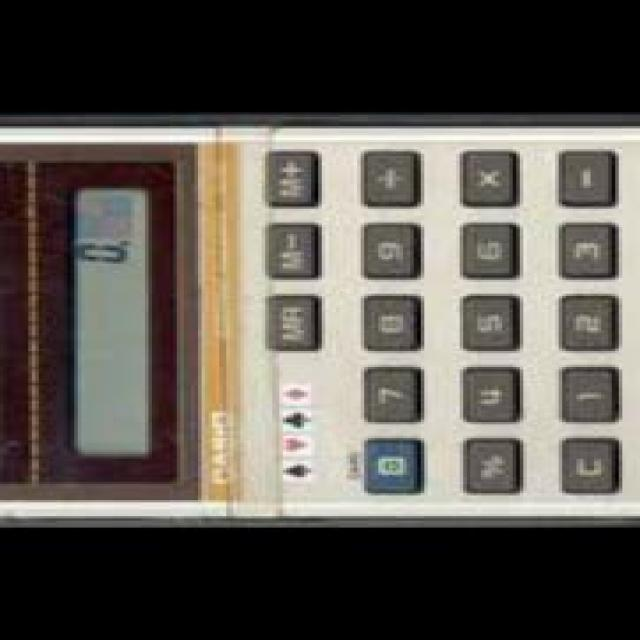Calculator: (0, 114, 636, 525)
